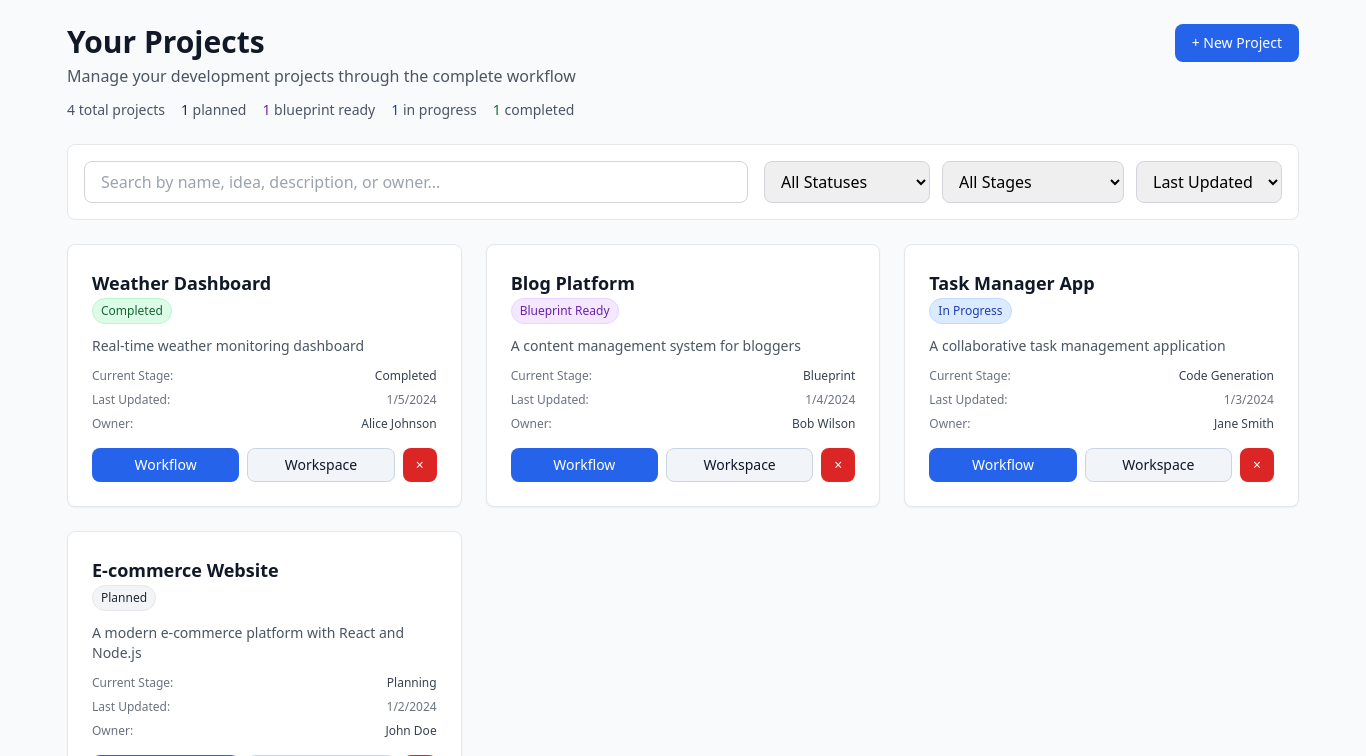
Test: DashboardPage › New Project Creation Workflow › handles project creation error
Note: Open modal
Click the button "+ New Project": (1237, 43) x1=1175 y1=24 x2=1299 y2=62
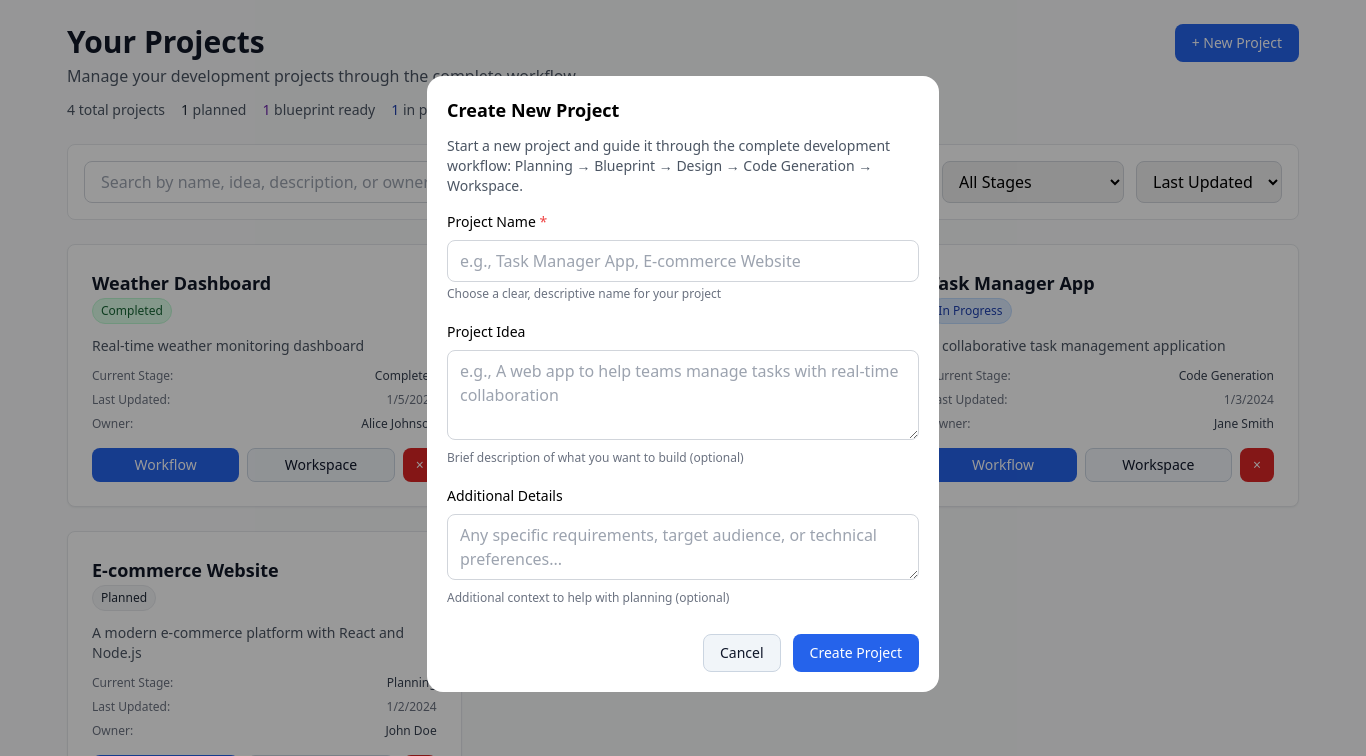
Note: Fill and submit form using placeholder text to find input
In the field with placeholder "e.g., Task Manager App, E-commerce Website": (683, 261) x1=447 y1=240 x2=919 y2=282, type "Test Project"
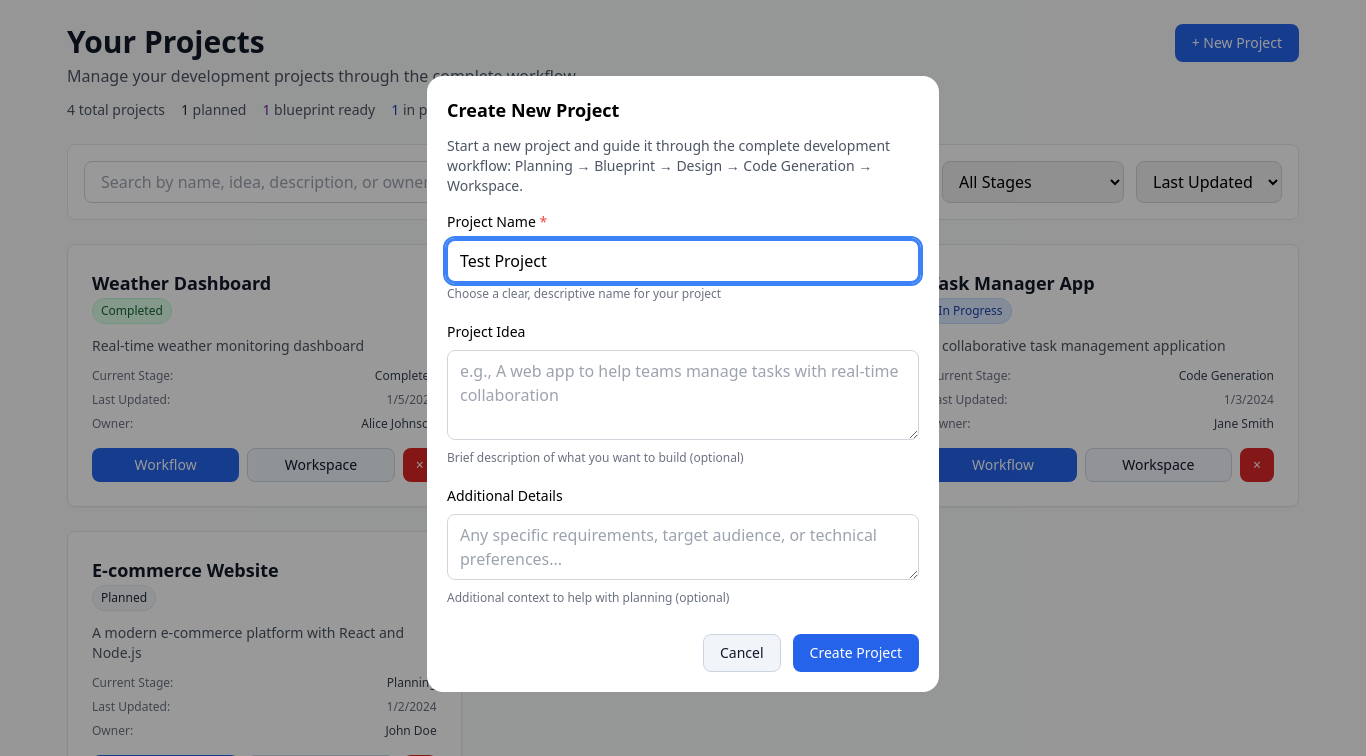
Click the button "Create Project": (856, 653) x1=793 y1=634 x2=919 y2=672
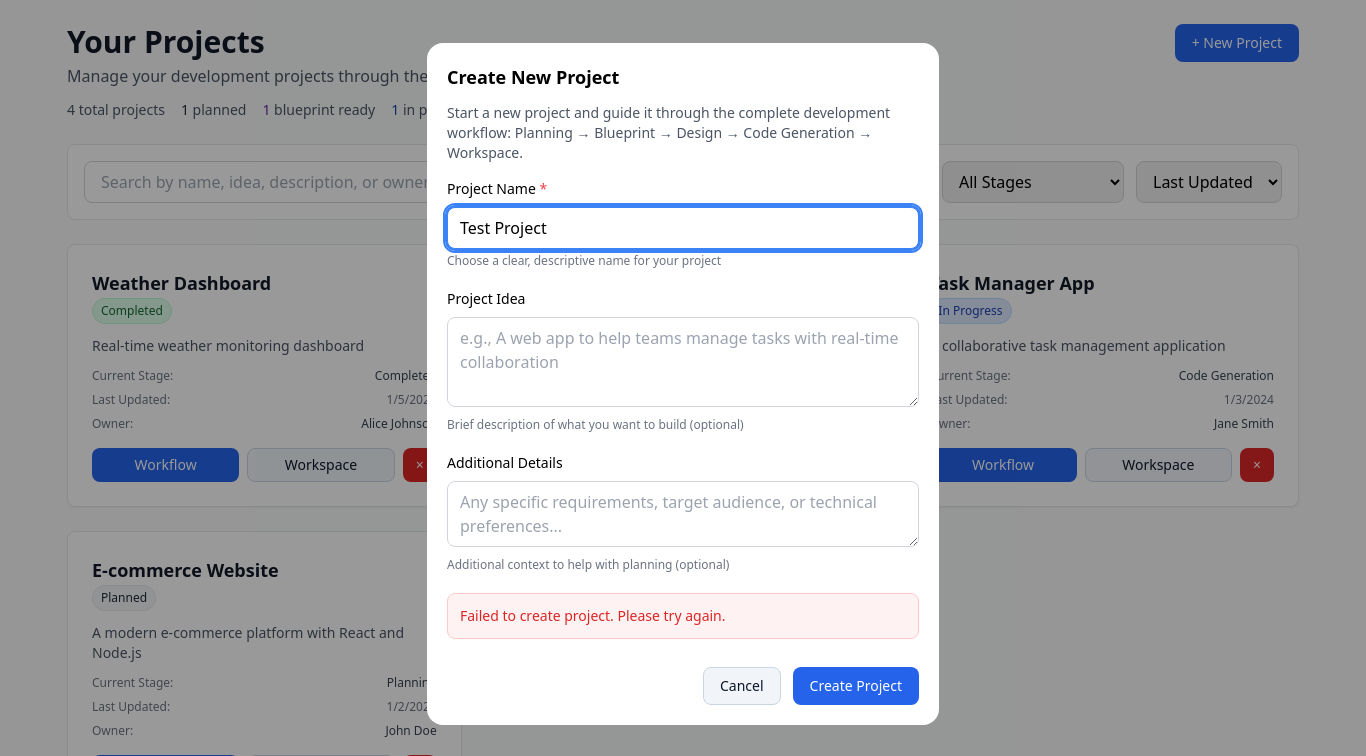
Result: the text "Failed to create project. Please try again." is shown at x1=460 y1=606 x2=726 y2=625
